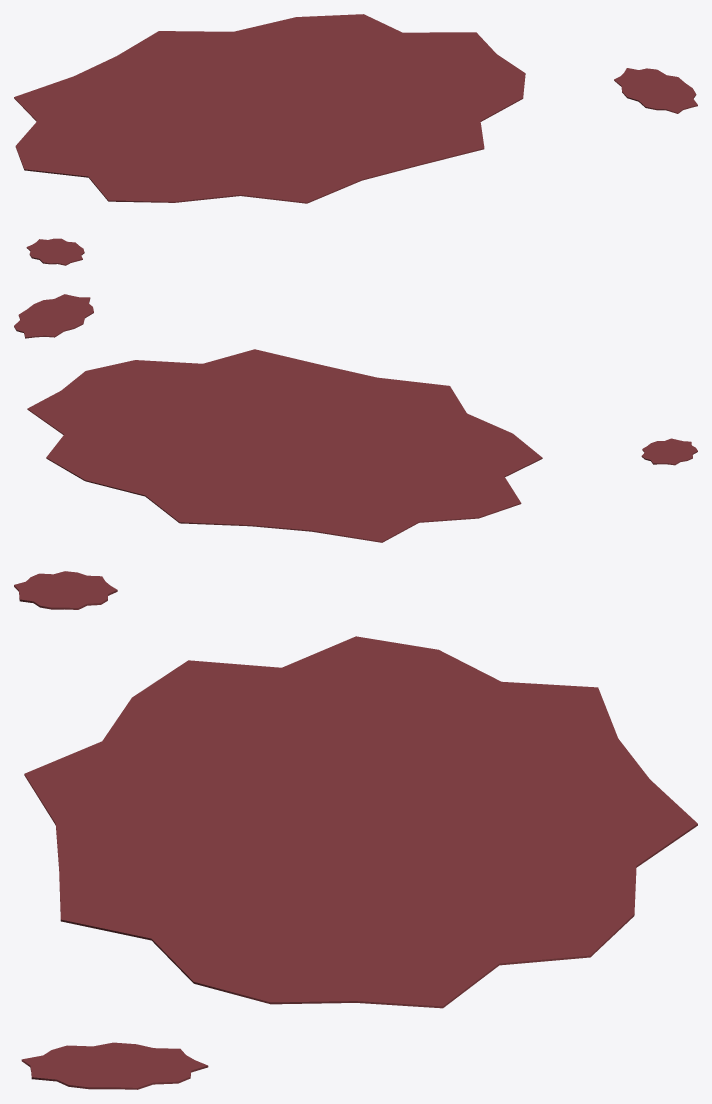
The model's file is rpg-mansion-clue-stain-01.glb.
3 renders of one model, top to bottom at view 1: azimuth 30°, elevation 25°; view 2: azimuth 150°, elevation 25°; view 3: azimuth 270°, elevation 25°, orthographic. The views are drawn at different scales.
Visible parts, largest first — view 1: rpg-mansion-clue-stain-01; view 2: rpg-mansion-clue-stain-01; view 3: rpg-mansion-clue-stain-01.
Part boxes in pixels (x1,y1,x2,y2): rpg-mansion-clue-stain-01: [14, 14, 697, 265]; rpg-mansion-clue-stain-01: [14, 294, 697, 542]; rpg-mansion-clue-stain-01: [14, 571, 697, 1089].
Bounding box in the file's own units: 0.59 × 0.001 × 0.33.
